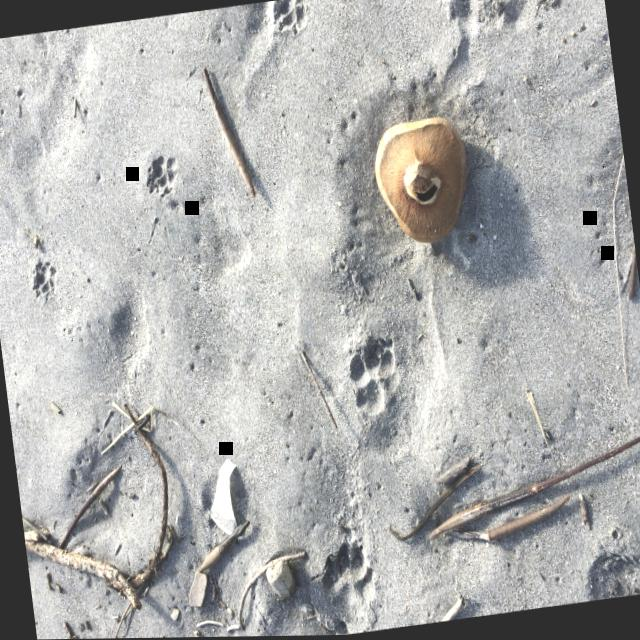Other plastic bottle: (209, 458, 237, 537), (175, 509, 178, 524)
